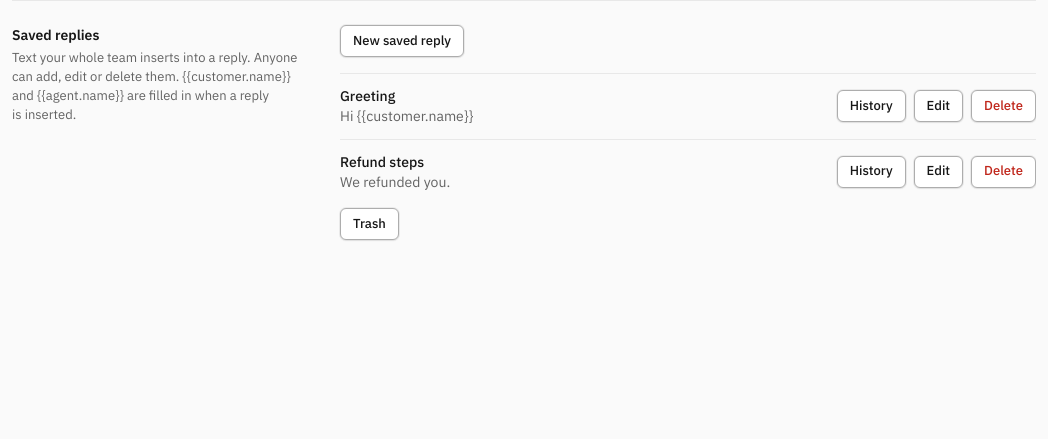
Test: a refused edit stays open with the reason
Click the button with aria-label "Edit Greeting".
click(938, 106)  # box [914,90,963,122]
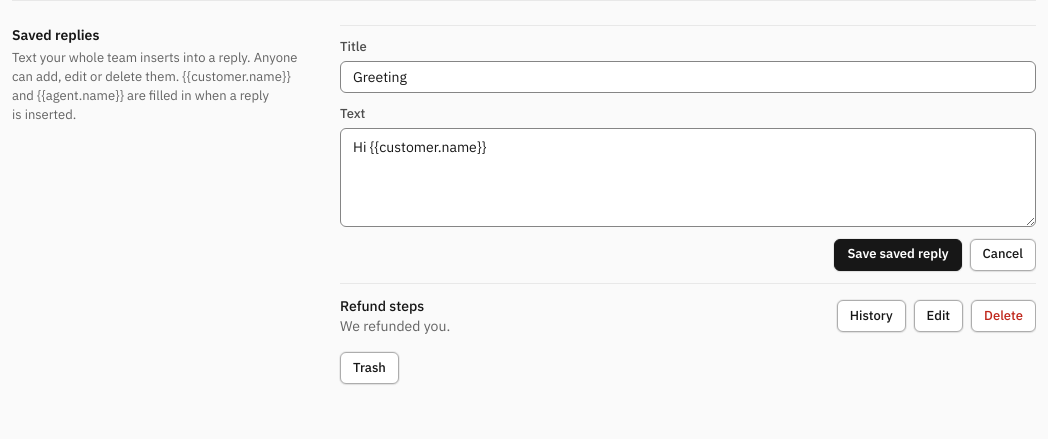
Click the button "Save saved reply".
click(898, 255)  # box [834,239,962,271]
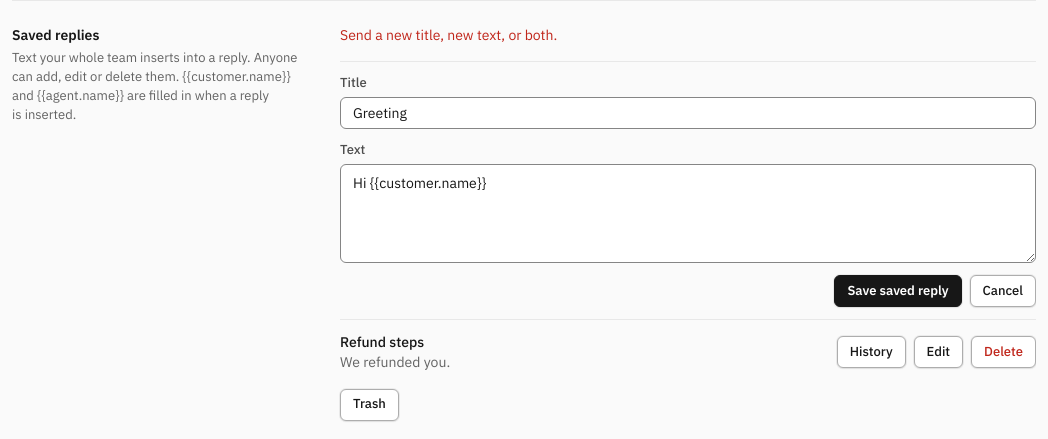
Now the form named "Edit Greeting" is shown, box [340,74,1036,307]
Now the message reads "Send a new title, new text, or both.", box [340,26,557,44]
